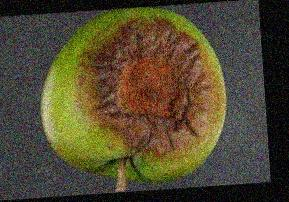rotten apple: (37, 8, 228, 186)
